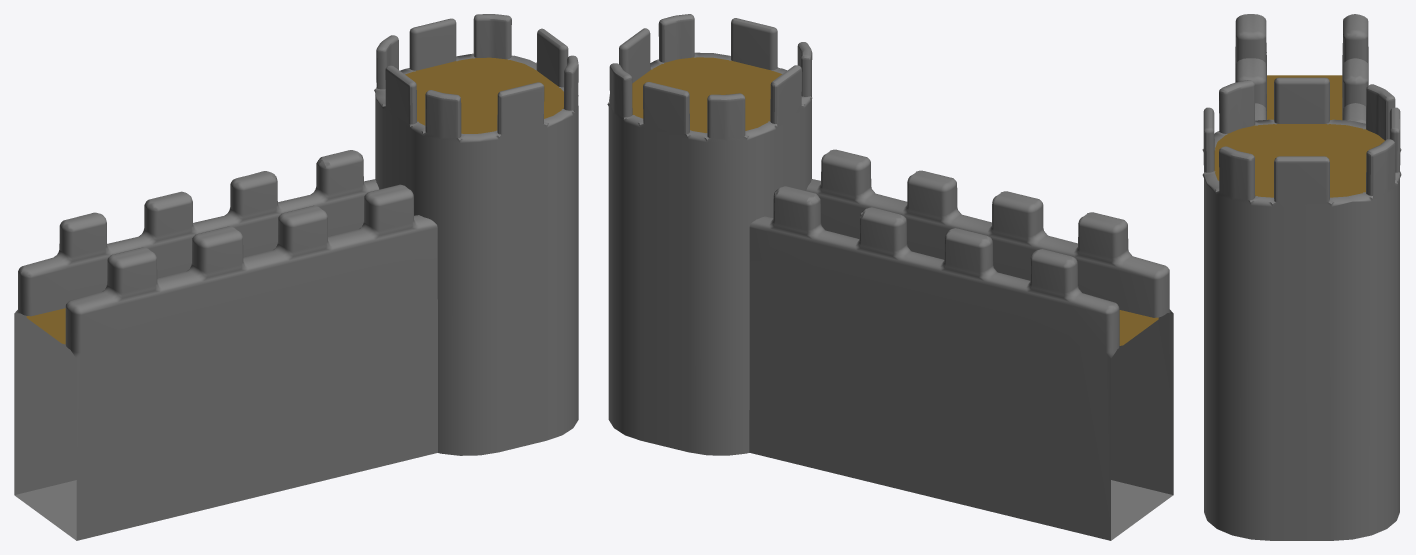
The model's file is Castle_Walls.fbx.
3 renders of one model, left to right at view 1: azimuth 30°, elevation 25°; view 2: azimuth 150°, elevation 25°; view 3: azimuth 270°, elevation 25°, orthographic. The views are drawn at different scales.
Visible parts, largest first — view 1: pCube1, pCube2; view 2: pCube1, pCube2; view 3: pCube2, pCube1.
Boxes of the visible parts, <box> form: pCube1: <box>14,150,437,540</box>; pCube2: <box>374,14,578,455</box>; pCube1: <box>749,149,1173,540</box>; pCube2: <box>607,14,812,455</box>; pCube2: <box>1202,77,1401,540</box>; pCube1: <box>1235,14,1368,123</box>.
Size of the model in its own units: 26.07 by 17.39 by 8.22.
